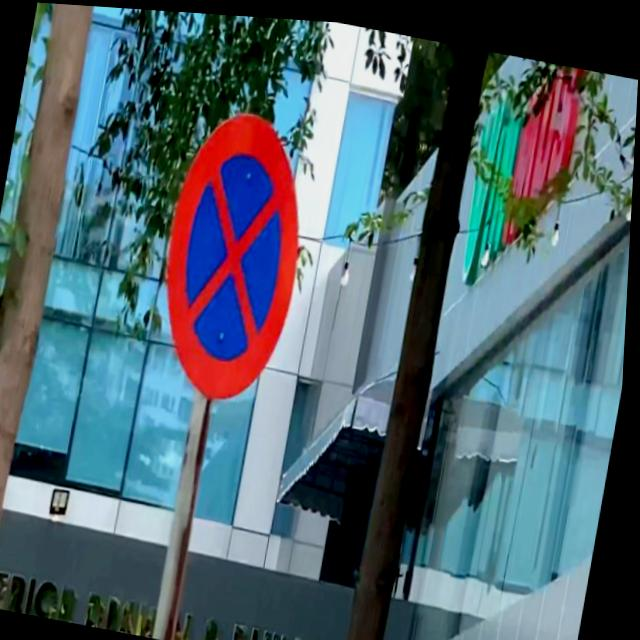Cam dung xe va do xe: (148, 98, 324, 409)
